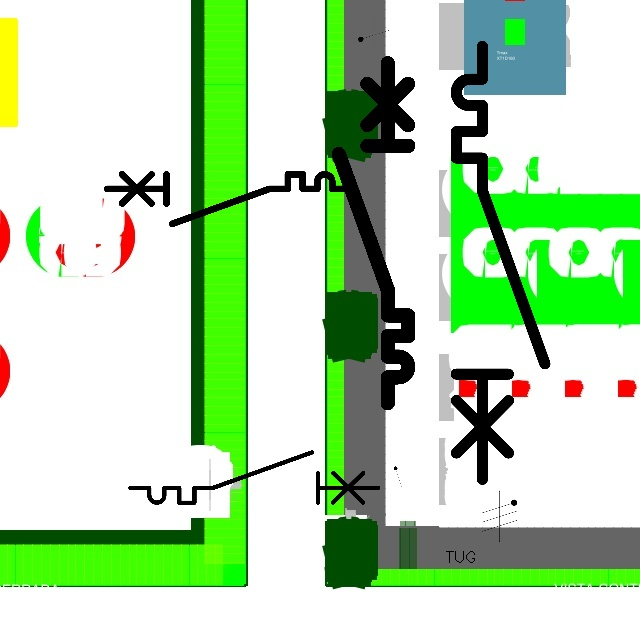interruptor_termomagnetico: (445, 35, 556, 490), (330, 54, 417, 412), (124, 446, 384, 509), (101, 168, 357, 230)
